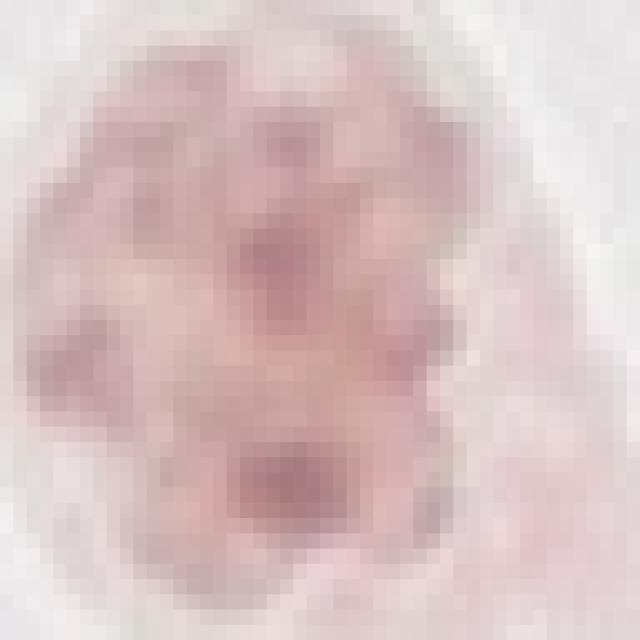cytoplasm: (0, 0, 627, 625)
